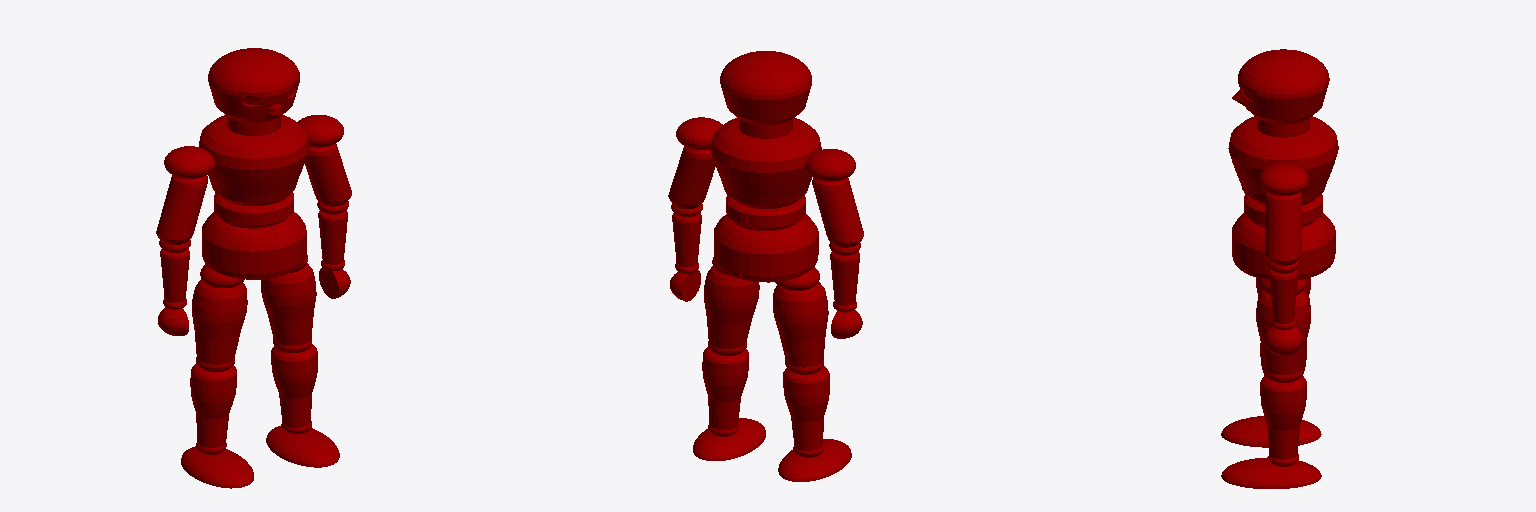
Rendered from WoodenLarry.obj.
3 renders of one model, left to right at view 1: azimuth 30°, elevation 25°; view 2: azimuth 150°, elevation 25°; view 3: azimuth 270°, elevation 25°, orthographic.
Visible parts, largest first — view 1: Larry_Body; view 2: Larry_Body; view 3: Larry_Body.
Part boxes in pixels (left/top/right/bottom): Larry_Body: left=156, top=48, right=351, bottom=488; Larry_Body: left=668, top=51, right=863, bottom=481; Larry_Body: left=1221, top=49, right=1338, bottom=488.
Bounding box in the file's own units: 0.7855 × 1.57 × 0.4195.